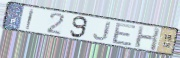2: (45, 13, 66, 36)
9: (69, 16, 89, 39)
E: (111, 22, 138, 47)
H: (134, 24, 161, 52)
I: (24, 8, 36, 31)
J: (92, 21, 112, 42)
